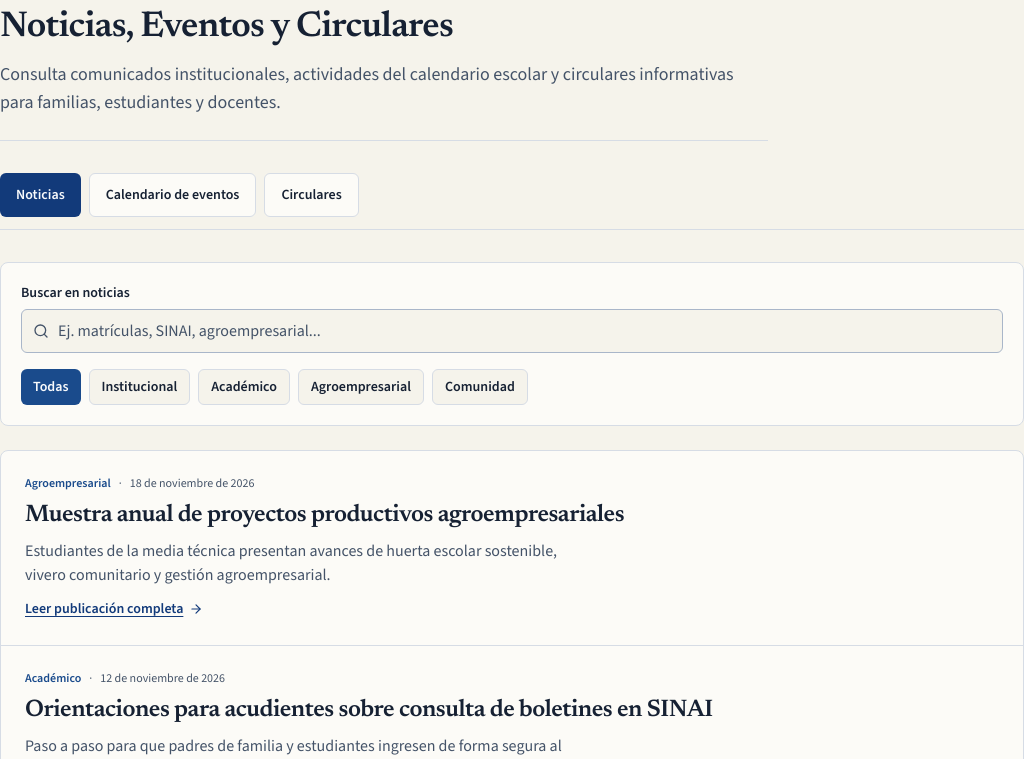
Test: NewsEventsPage y NewsDetailPage (Fase 4) › filtra por categoría, cambia entre pestañas de eventos y circulares, y maneja estado vacío
Expected: the link "Muestra anual de proyectos productivos agroempresariales" is shown, [25,503,624,527]
Click the button "Comunidad": (480, 387) [432,369,528,405]
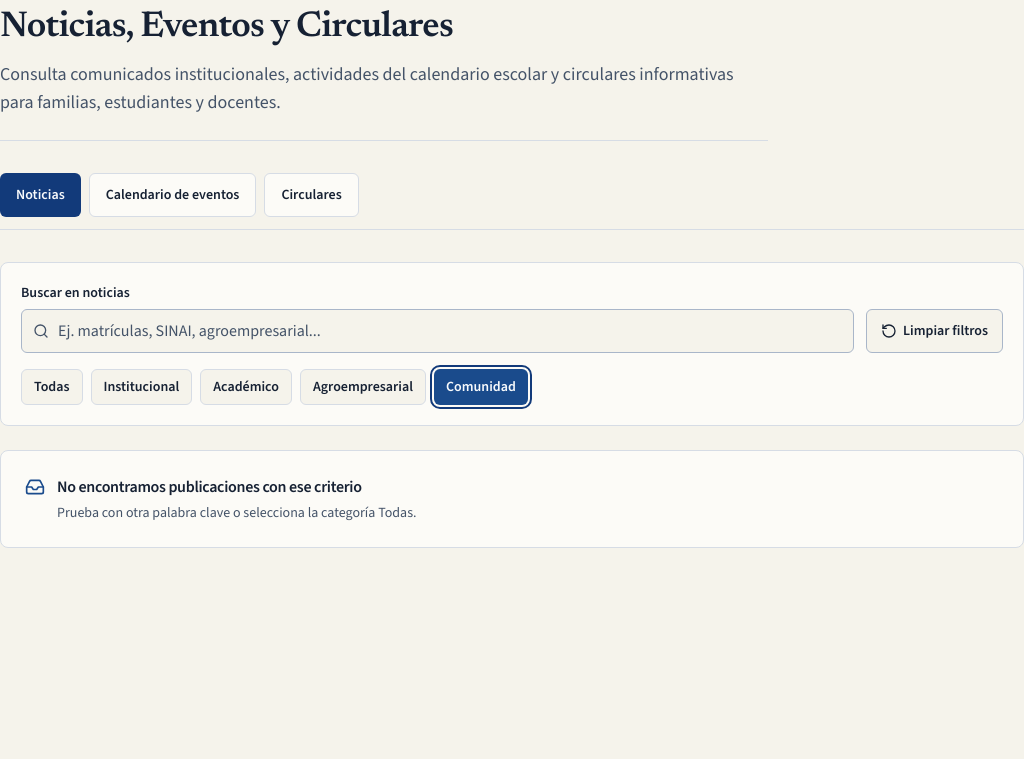
Expected: the heading "No encontramos publicaciones con ese criterio" is shown, [57,476,362,497]
Click the tab "Calendario de eventos": (173, 195) [89,173,256,217]
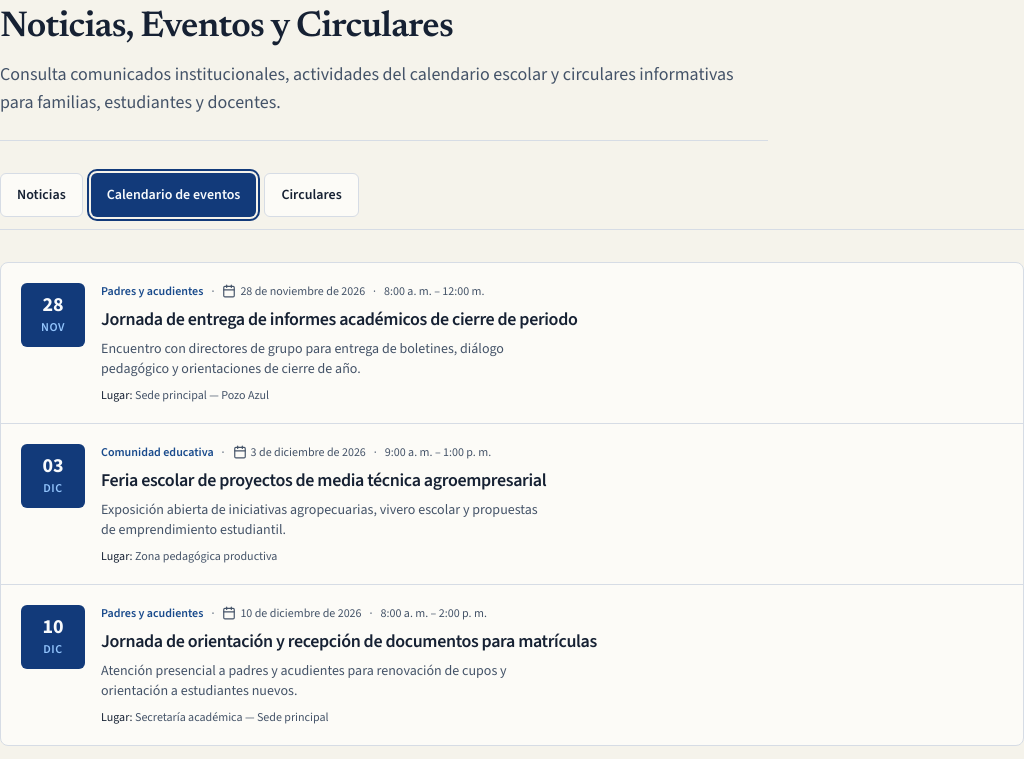
Expected: the heading "Jornada de entrega de informes académicos de cierre de periodo" is shown, [101,307,578,331]
Click the tab "Circulares": (312, 195) [264,173,359,217]
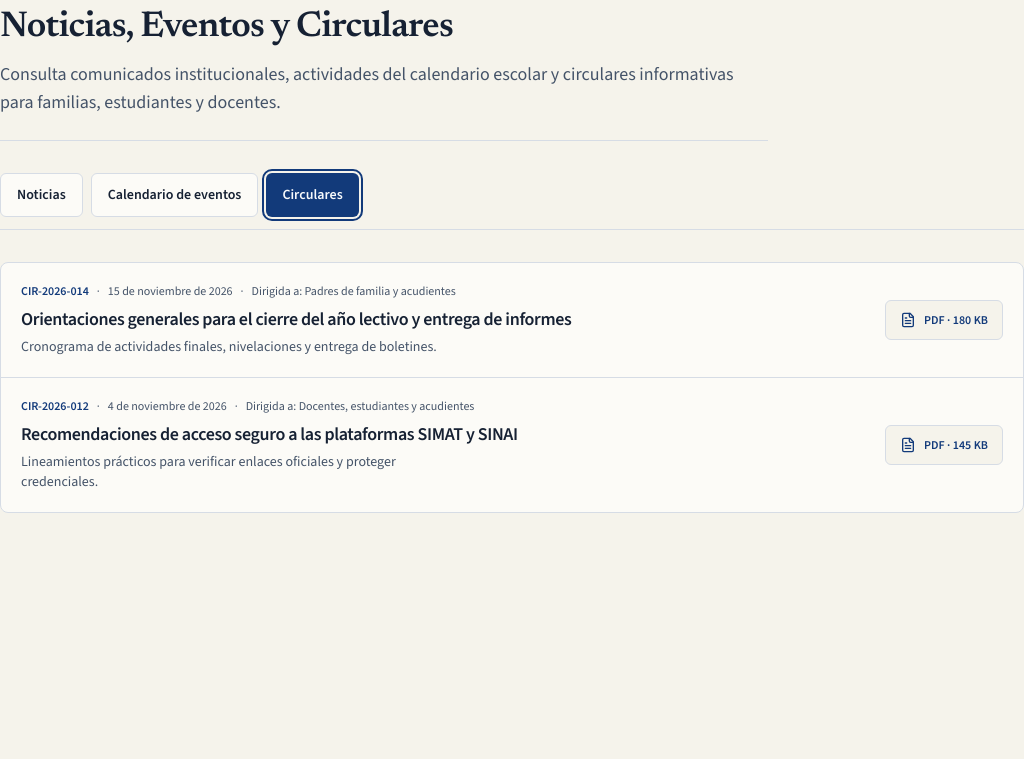
Expected: the heading "Orientaciones generales para el cierre del año lectivo y entrega de informes" is shown, [21,305,571,333]
